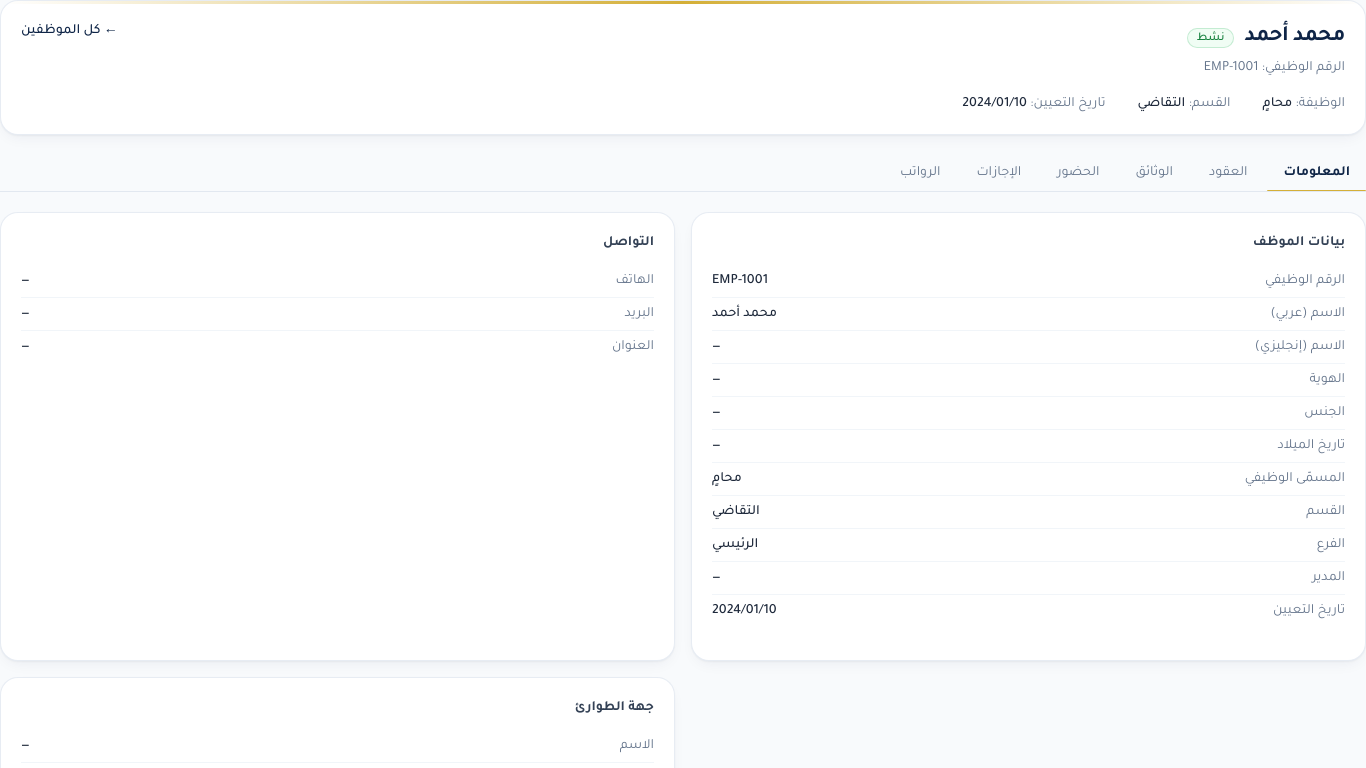
Test: HrEmployeeProfilePage › يعرض حالة فارغة لتبويب بلا بيانات (الوثائق)
Check: the heading "محمد أحمد" is shown, box [1244, 21, 1345, 54]
Click the tab "الوثائق": (1154, 173) [1120, 155, 1189, 191]
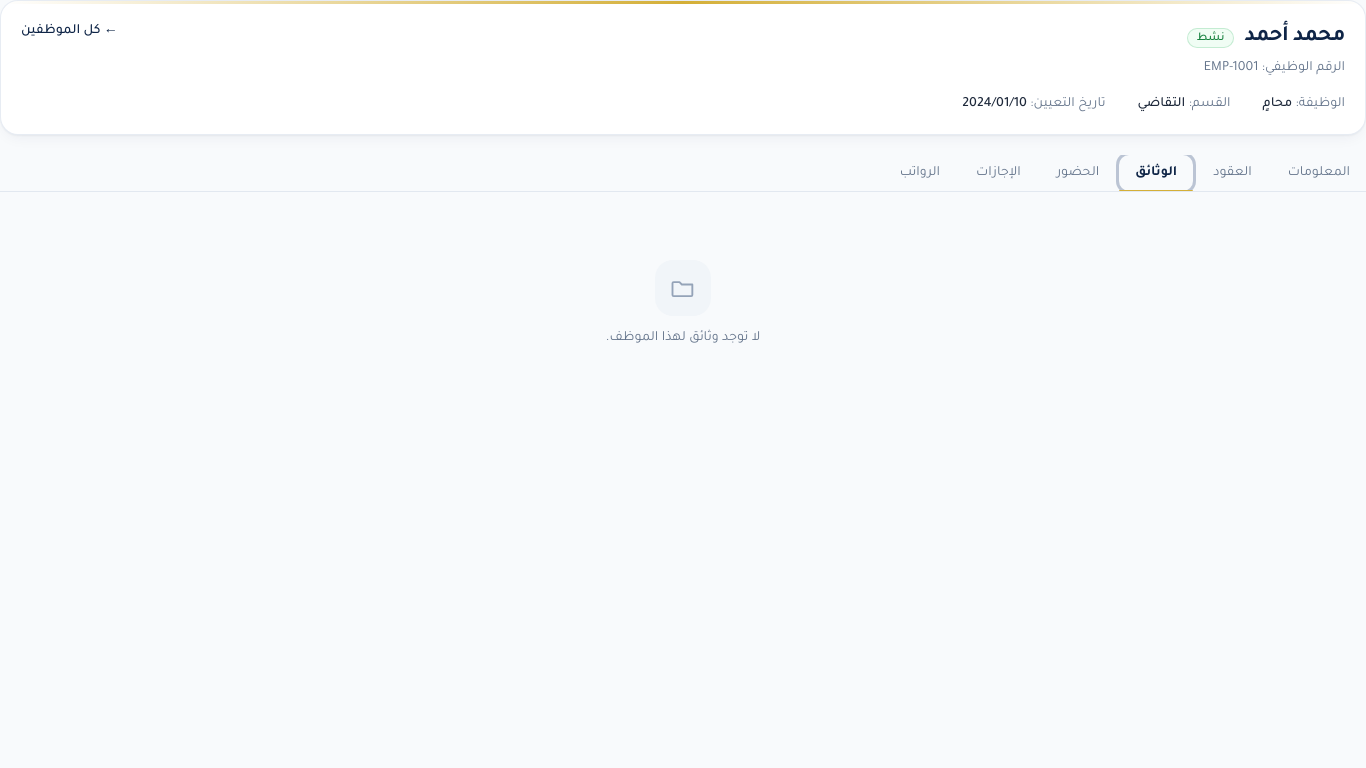
Check: the text "لا توجد وثائق لهذا الموظف." is shown, box [606, 328, 760, 348]
